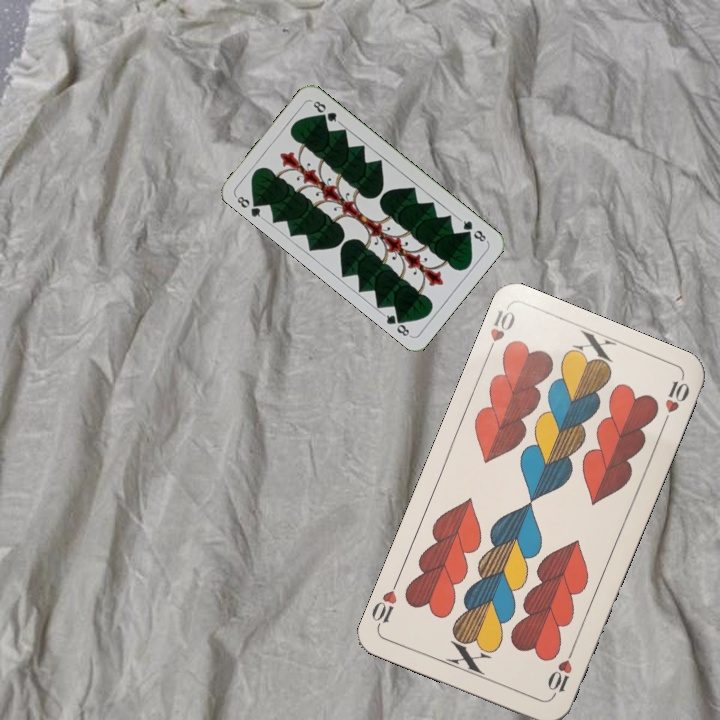G8: (455, 215, 490, 245), (232, 192, 266, 222)
H10: (482, 306, 518, 361), (543, 644, 577, 701)
